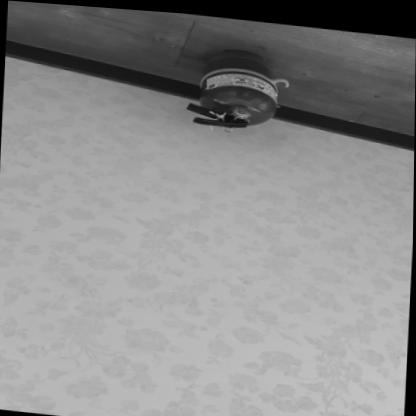FE: (185, 44, 282, 128)
